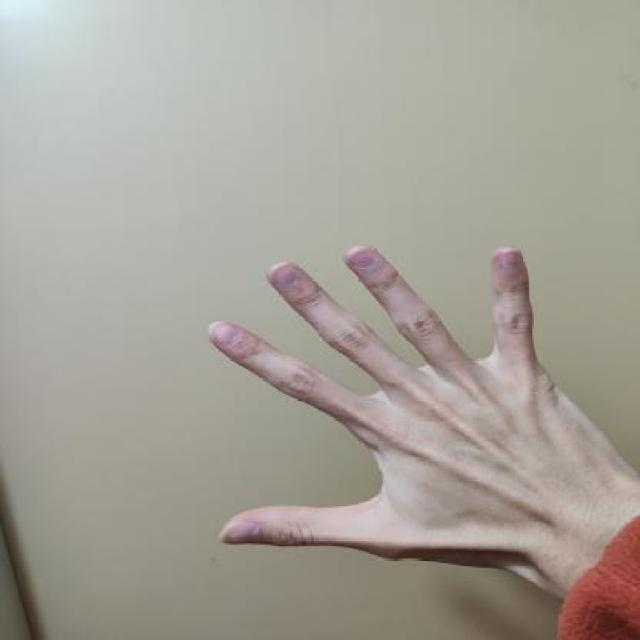bare_hand: (198, 231, 638, 638)
